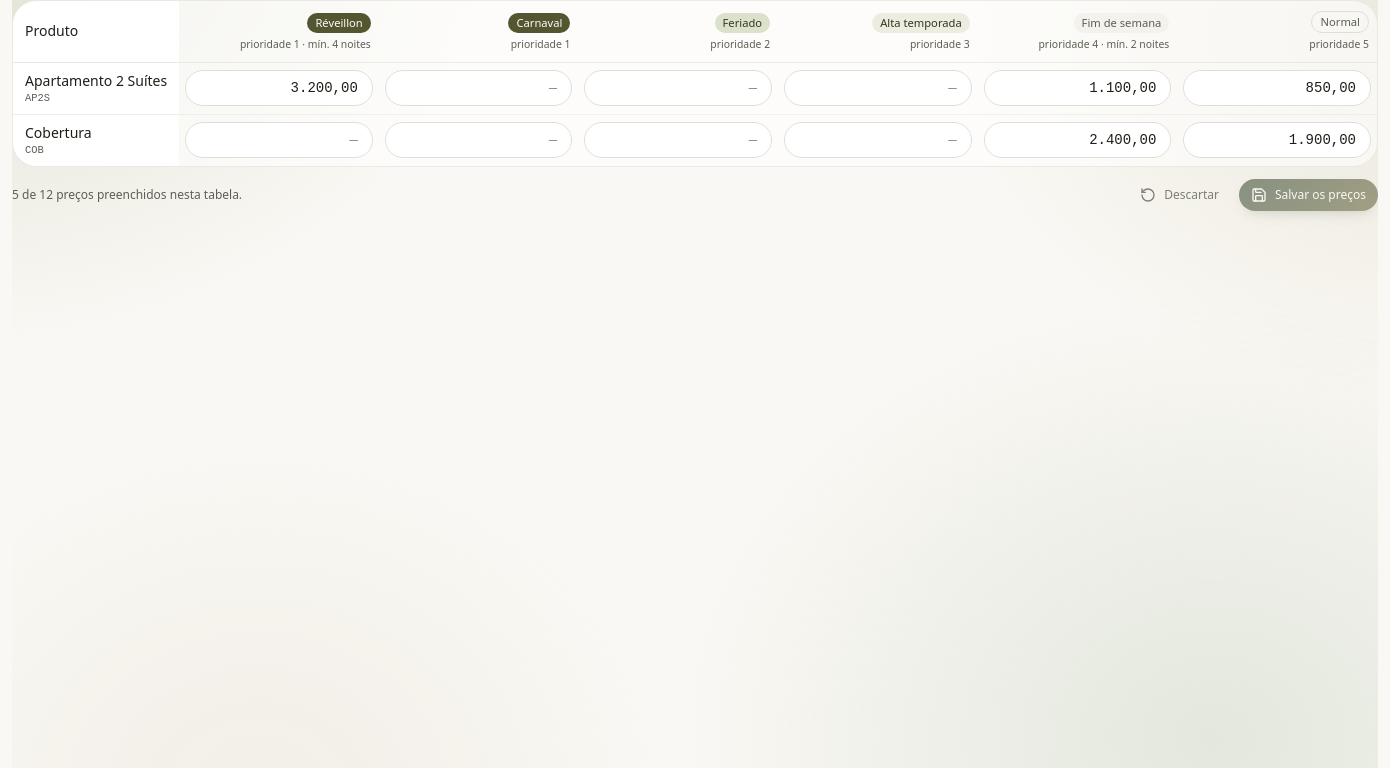
it: GradeDeTarifas › recusa diária zerada — o mínimo do contrato é um centavo
Replace the text in the field named "Cobertura — Normal" with "0,00". click: (1277, 140)
box: [1183,122,1371,158]
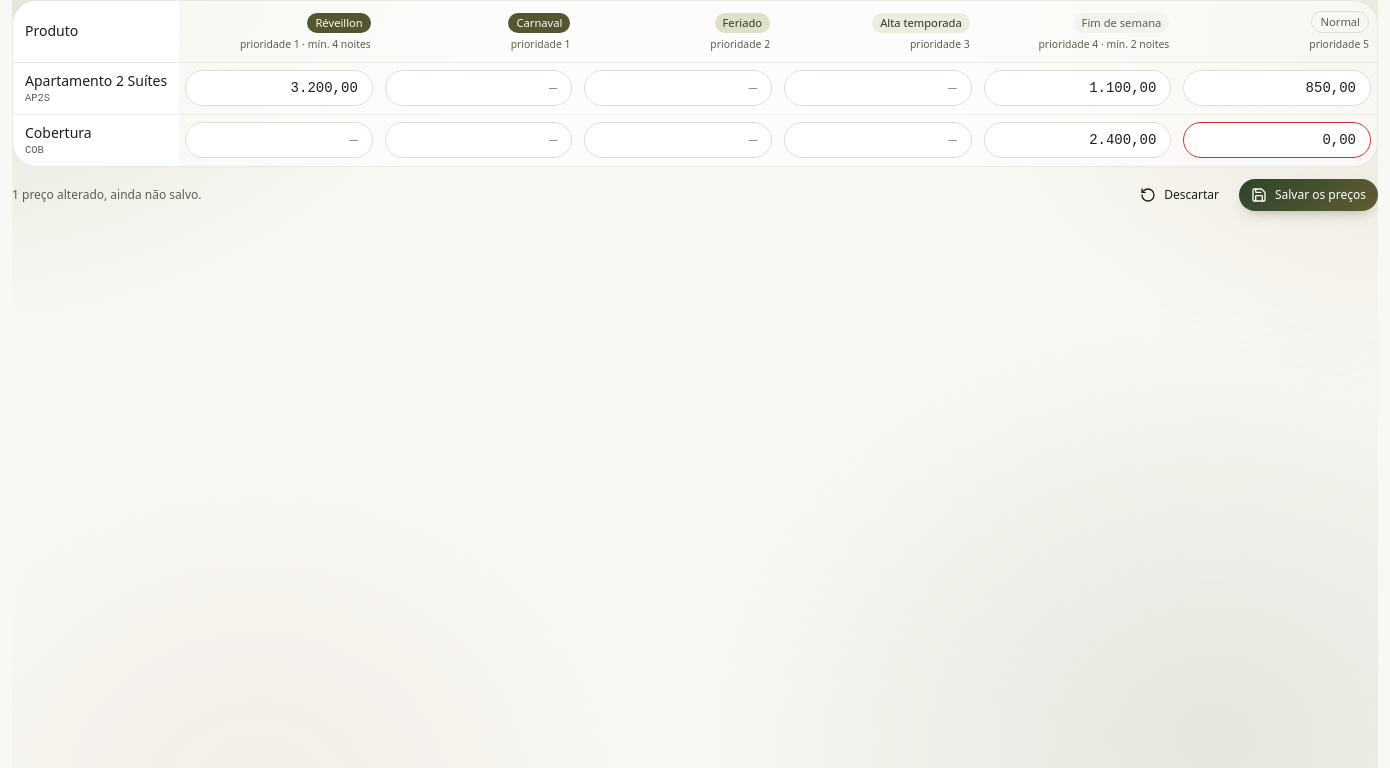
Click the button "Salvar os preços". click: (1308, 195)
box: [1239,179,1378,211]
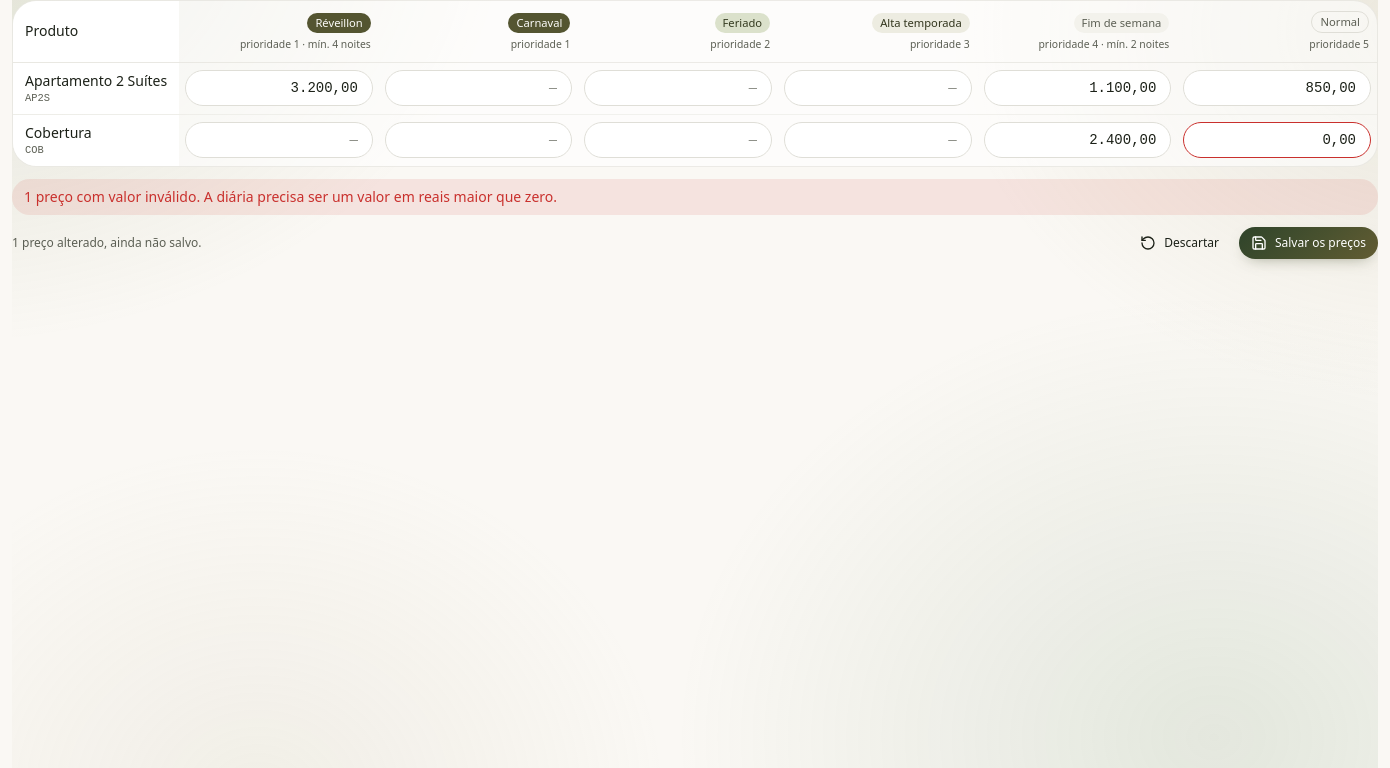
Expected: the message is shown, [12,179,1378,215]
